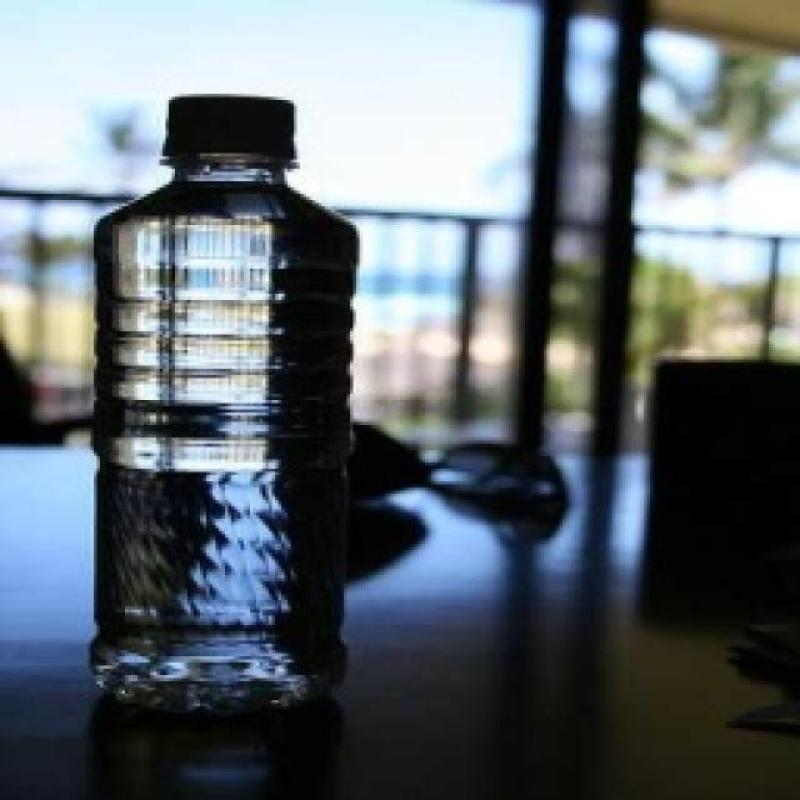botella: (92, 98, 358, 714)
